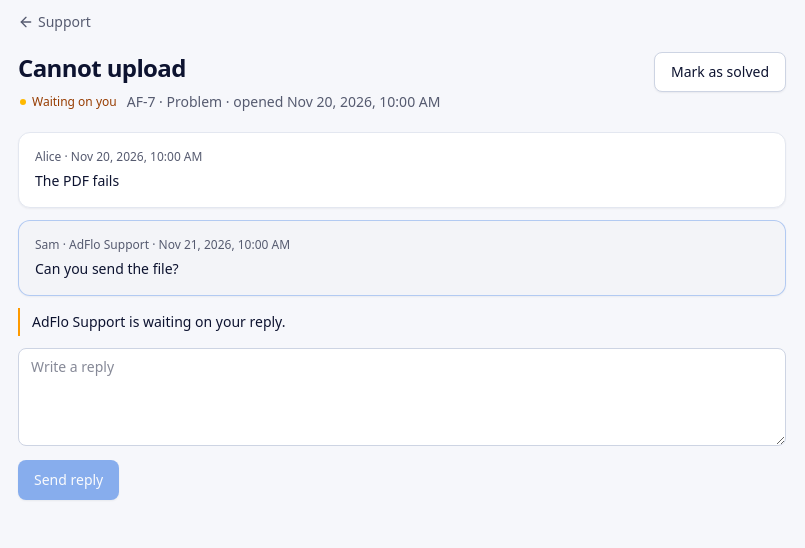
Test: RequestThread › shows the server's message when sending fails
In the text box named "Your reply": point(402, 397) [18,348,786,446], type "x"
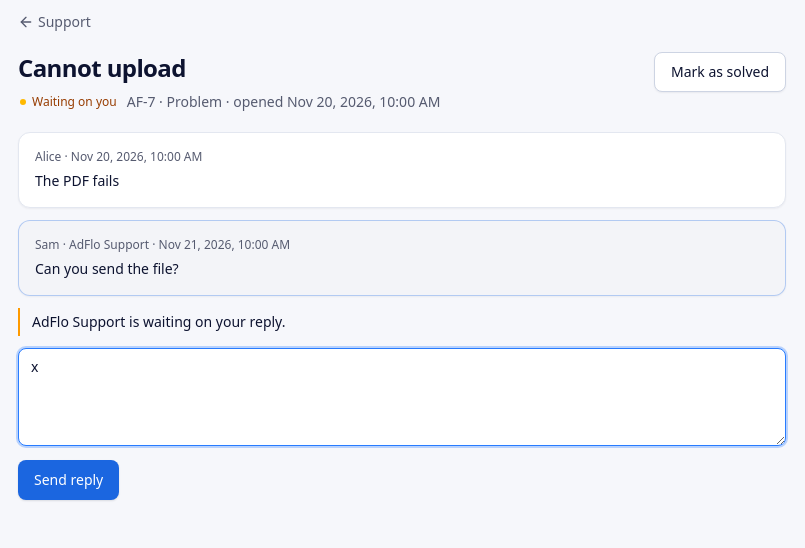
Click the button "Send reply": point(69, 480) [18,460,119,500]
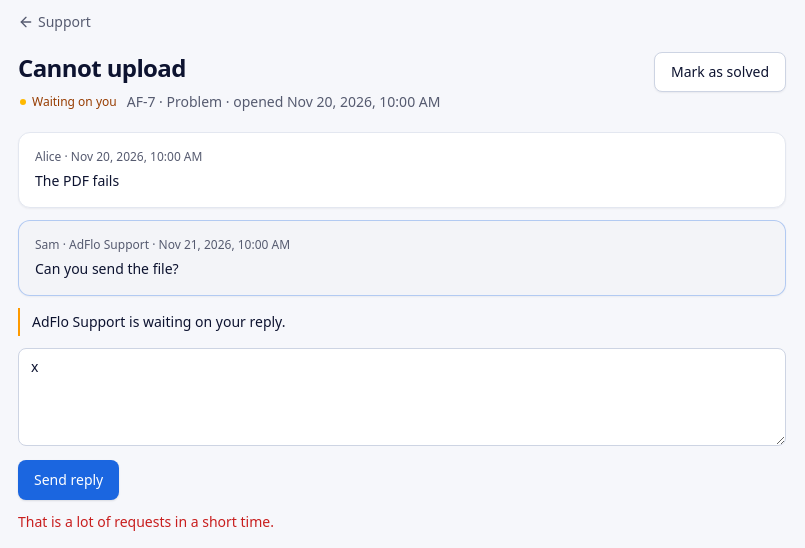
Expected: the message "That is a lot of requests in a short time." is shown, [18,512,274,531]
